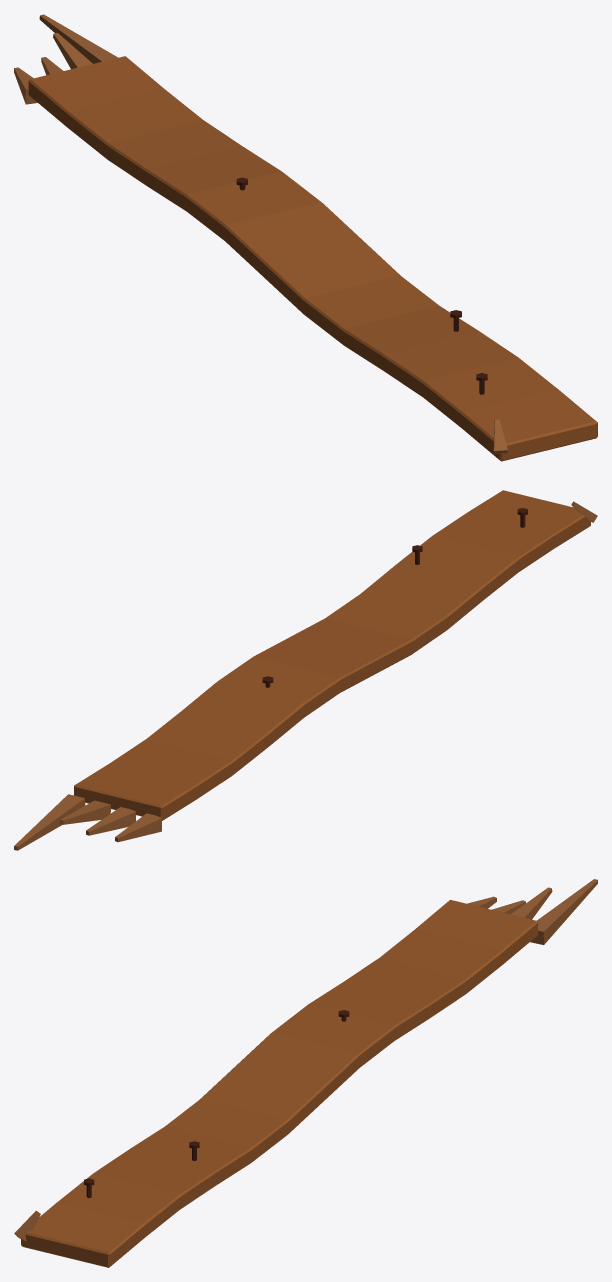
Rendered from DEBRIS_02_WoodenPlank.obj.
The picture shows the model from 3 angles, top to bottom: view 1: azimuth 30°, elevation 25°; view 2: azimuth 150°, elevation 25°; view 3: azimuth 330°, elevation 25°; orthographic projection. The views are drawn at different scales.
Parts seen in each view (by area): view 1: DEBRIS_02_WoodenPlank_Board, DEBRIS_02_WoodenPlank_Split_End; view 2: DEBRIS_02_WoodenPlank_Board, DEBRIS_02_WoodenPlank_Split_End; view 3: DEBRIS_02_WoodenPlank_Board, DEBRIS_02_WoodenPlank_Split_End.
Boxes of the visible parts, left/top/right/bottom form: DEBRIS_02_WoodenPlank_Board: left=28, top=56, right=597, bottom=461; DEBRIS_02_WoodenPlank_Split_End: left=14, top=14, right=117, bottom=104; DEBRIS_02_WoodenPlank_Board: left=74, top=490, right=590, bottom=820; DEBRIS_02_WoodenPlank_Split_End: left=14, top=794, right=161, bottom=850; DEBRIS_02_WoodenPlank_Board: left=21, top=900, right=537, bottom=1267; DEBRIS_02_WoodenPlank_Split_End: left=467, top=879, right=597, bottom=944.
Bounding box in the file's own units: 0.269 × 0.1058 × 2.32.
